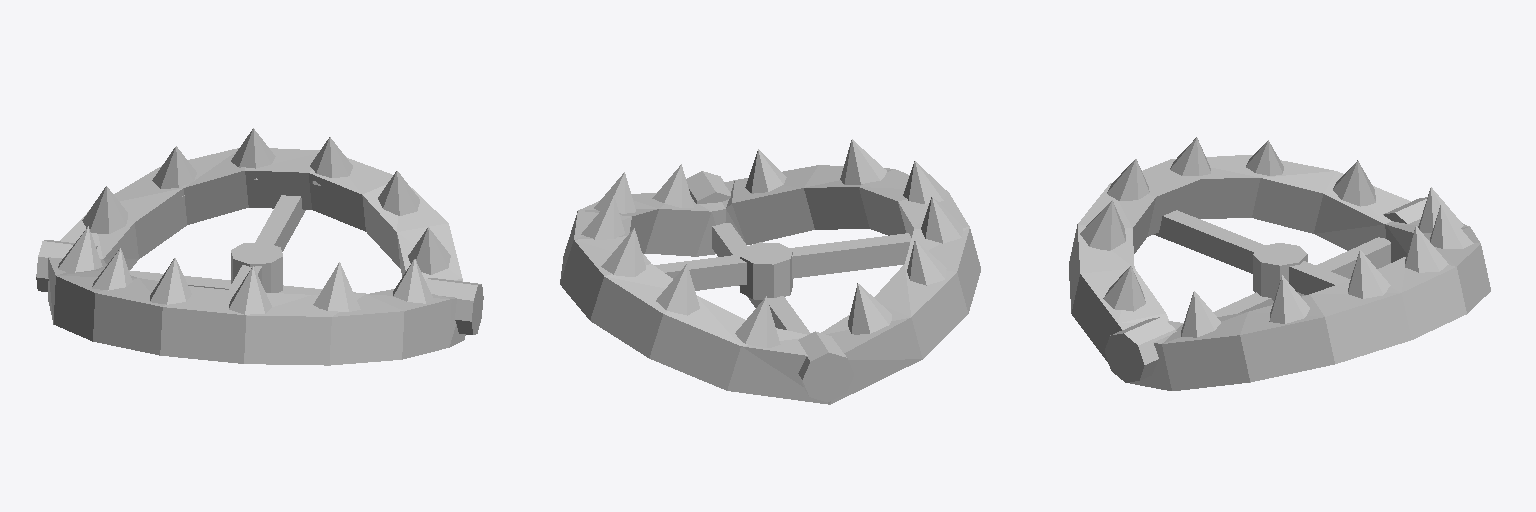
File: trampaOso.obj
3 views of the same model, side by side, from view 1: azimuth 30°, elevation 25°; view 2: azimuth 150°, elevation 25°; view 3: azimuth 270°, elevation 25° (orthographic).
Parts seen in each view (by area): view 1: Cylinder; view 2: Cylinder; view 3: Cylinder.
Boxes of the visible parts, <box> form: Cylinder: <box>36,128,483,365</box>; Cylinder: <box>560,139,980,404</box>; Cylinder: <box>1069,137,1490,390</box>.
Bounding box in the file's own units: 1.36 × 0.4477 × 1.37.